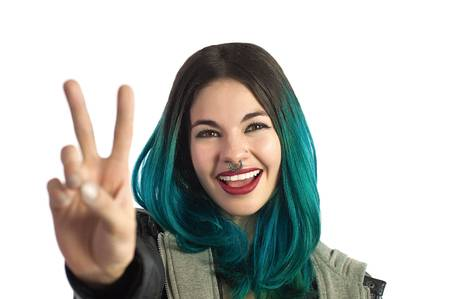face: (190, 78, 280, 217)
hand: (46, 77, 135, 281)
